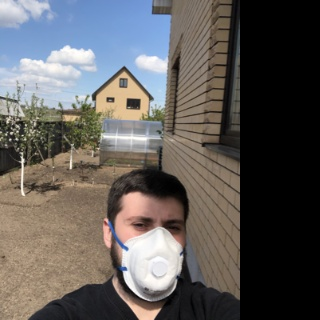with_mask: (115, 201, 186, 306)
